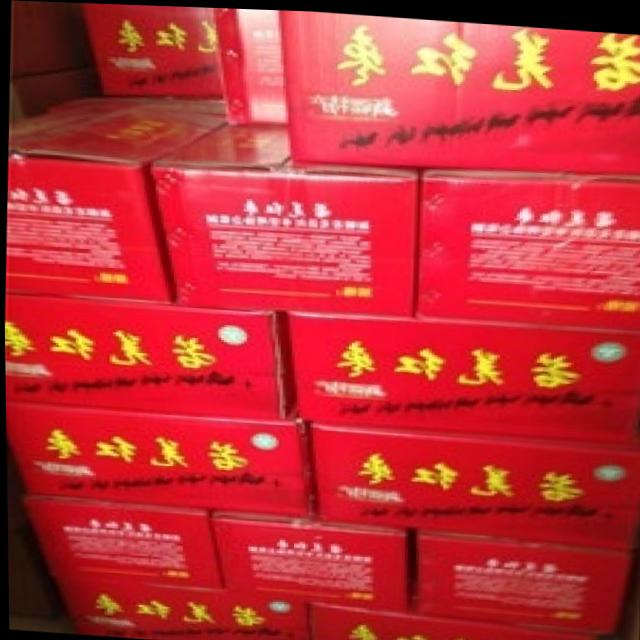box: (281, 9, 640, 173), (147, 122, 417, 314), (283, 310, 640, 446), (4, 95, 225, 304), (312, 422, 640, 545), (4, 292, 292, 416), (417, 169, 640, 328), (5, 399, 312, 512), (413, 531, 631, 629), (207, 510, 407, 610), (22, 494, 219, 589), (49, 578, 306, 640), (81, 2, 219, 97), (305, 599, 594, 640), (214, 6, 284, 126)
